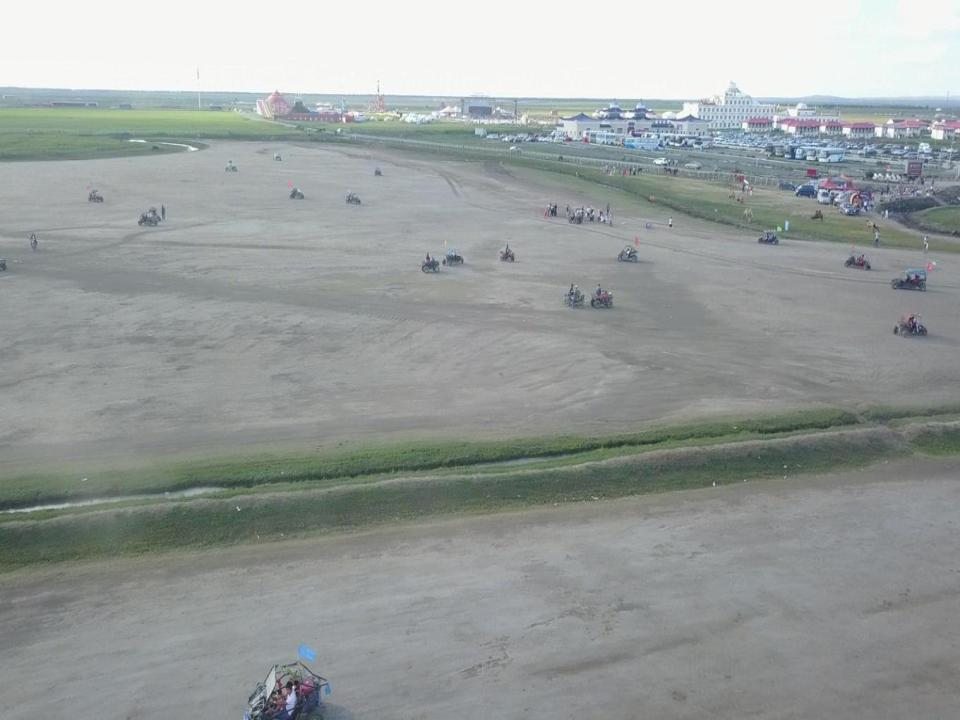bus: (620, 134, 651, 146), (626, 137, 656, 149), (596, 132, 626, 144), (583, 129, 613, 141), (693, 136, 723, 148), (675, 134, 705, 146), (660, 133, 690, 145), (635, 138, 665, 150), (616, 136, 645, 148), (668, 134, 699, 145), (818, 150, 846, 162), (644, 131, 674, 142), (606, 134, 635, 145), (589, 133, 618, 144), (652, 133, 681, 144), (806, 148, 830, 160), (795, 147, 819, 159), (786, 145, 809, 157), (774, 144, 794, 156), (766, 143, 781, 156)
car: (840, 203, 856, 214), (685, 161, 702, 169), (652, 156, 668, 164), (778, 182, 796, 189), (873, 173, 885, 181), (888, 174, 901, 181)
van: (794, 185, 814, 198), (830, 190, 849, 202), (833, 194, 853, 205), (818, 189, 828, 203)
